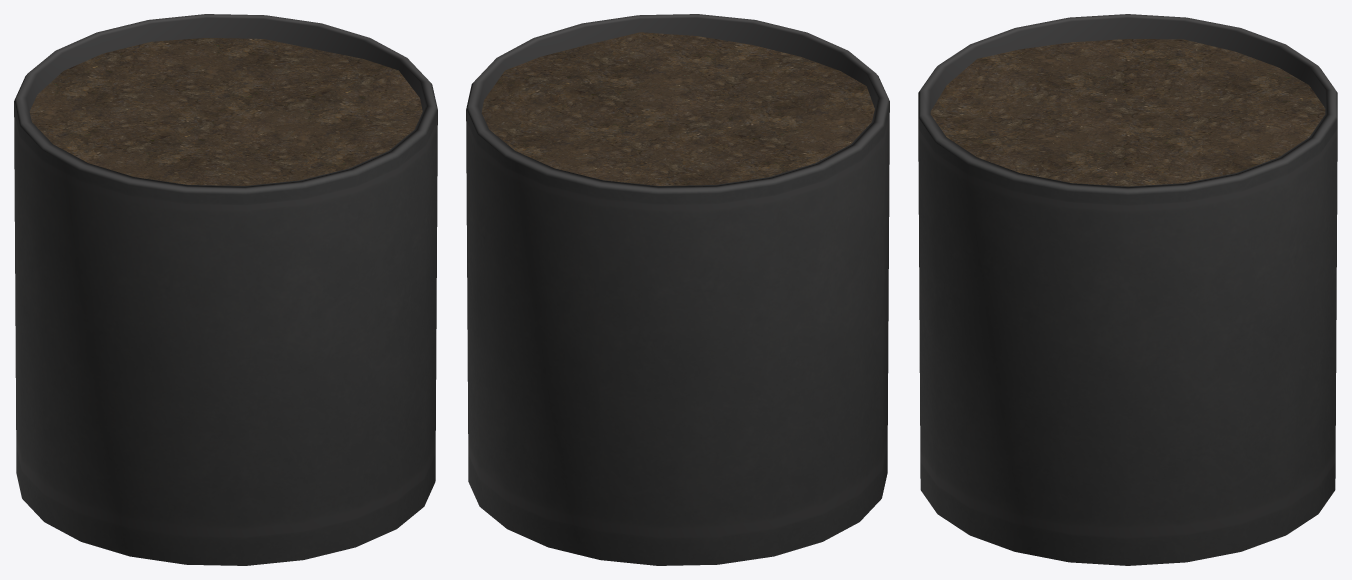
File: Port.fbx
The picture shows the model from 3 angles, left to right: view 1: azimuth 30°, elevation 25°; view 2: azimuth 150°, elevation 25°; view 3: azimuth 270°, elevation 25°; orthographic projection.
Visible parts, largest first — view 1: Palm_Plant; view 2: Palm_Plant; view 3: Palm_Plant.
Part boxes in pixels (bbox=[...]): Palm_Plant: bbox=[14, 14, 437, 565]; Palm_Plant: bbox=[466, 14, 889, 565]; Palm_Plant: bbox=[918, 14, 1337, 565].
Bounding box in the file's own units: 18.69 × 18.25 × 18.5.
